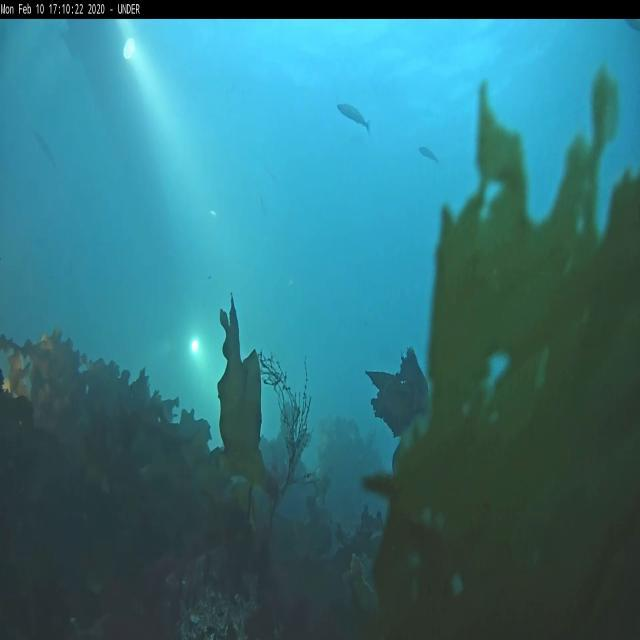fish: (338, 100, 370, 134), (419, 146, 438, 162)
